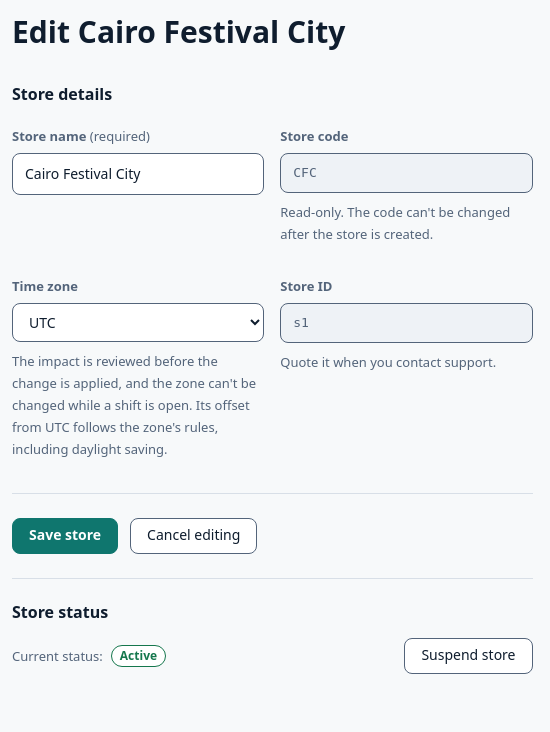
Test: StoreForm edit: changing the time zone › a date that does not change is said so
The image size is (550, 732).
Select "Cairo (Africa/Cairo)" in the dropdown: x=138, y=323 [12,303,264,342]
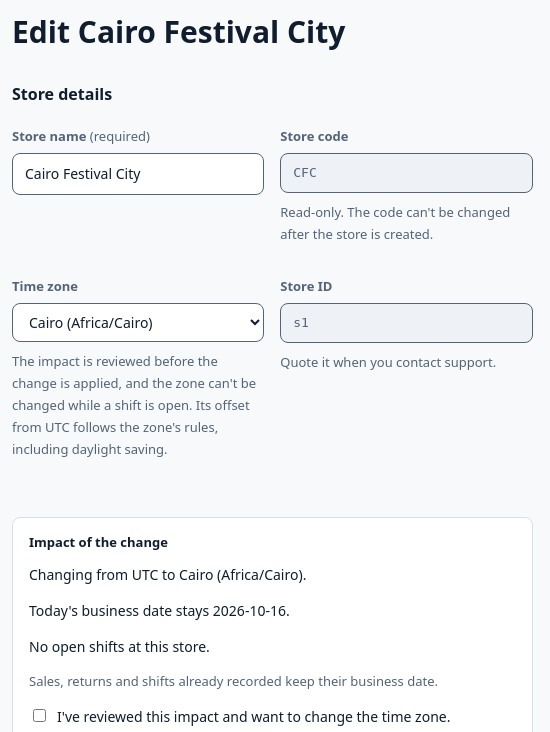
Result: the text "Today's business date stays 2026-10-16." is shown at [29,601,290,620]
